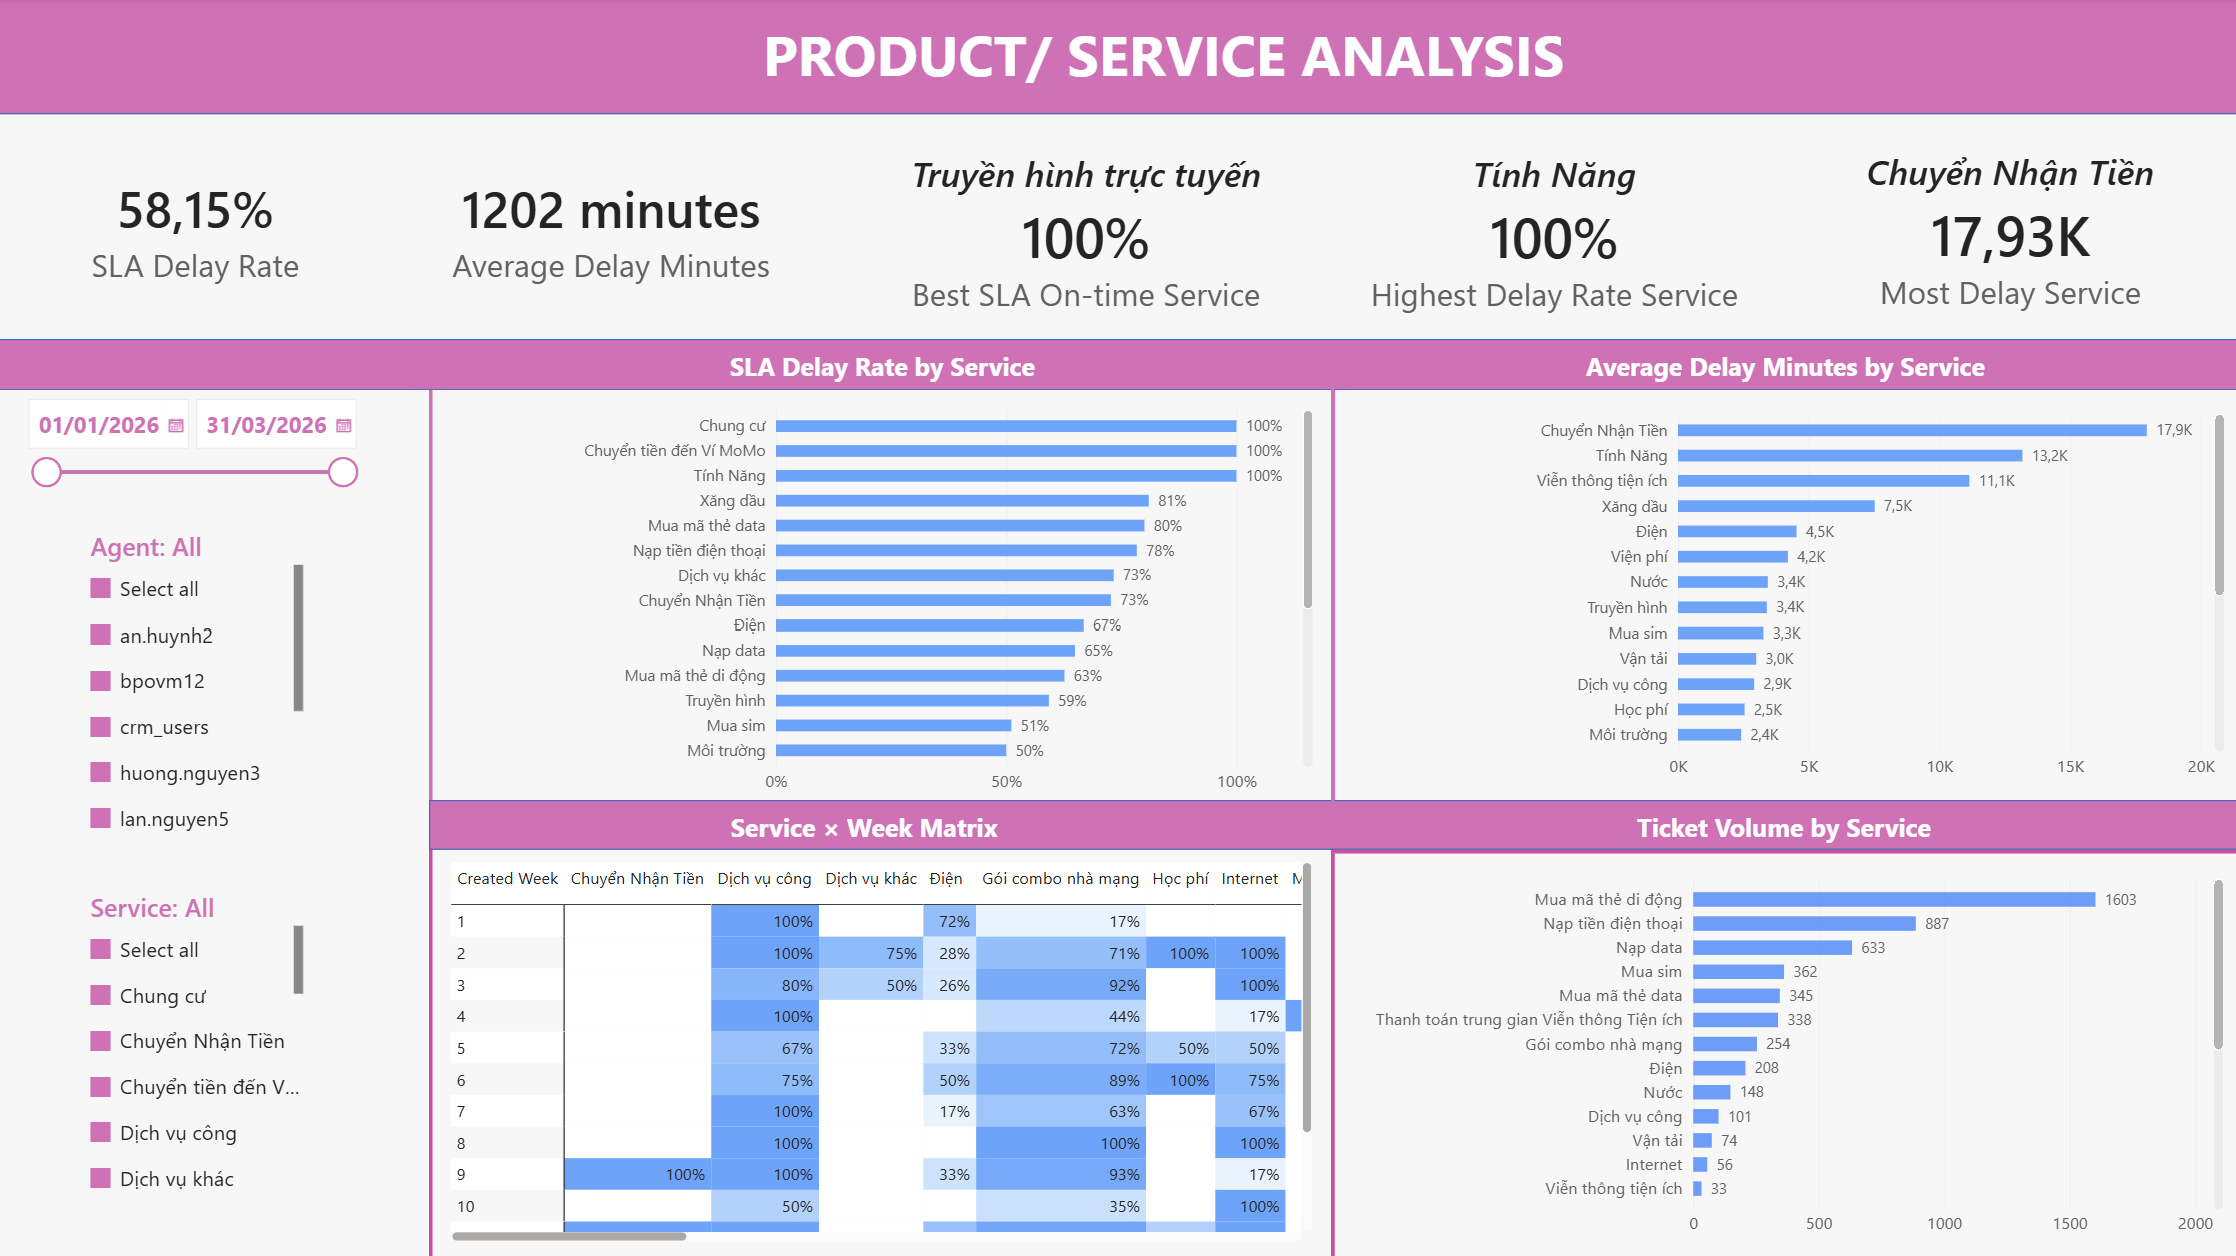

This screenshot's page, from the dashboard's own definition file:
{"tool":"powerbi","page":{"name":"Product/ Service Analysis","canvas":[1920,1080],"ordinal":2},"visuals":[{"type":"cardVisual","fields":{"Data":["Ticket_SLA.Delay Rate"]},"box":[0,102.1,342.7,192],"z":0},{"type":"clusteredBarChart","fields":{"Category":["Ticket_SLA.Level"],"Y":["Ticket_SLA.Delay Rate"]},"box":[369.4,328.1,772.9,374.3],"z":1000},{"type":"shape","box":[0,291.6,1920,43.7],"z":2000},{"type":"textbox","box":[400.8,300,712.5,39.2],"z":3000},{"type":"shape","box":[0,0,1920,100],"z":4000},{"type":"slicer","fields":{"Values":["Ticket_SLA.Created_date"]},"box":[20,337.5,292.5,92.5],"z":5000},{"type":"textbox","box":[1134.2,300,785.8,30],"z":6000},{"type":"textbox","box":[480,15,1035,82.5],"z":7000},{"type":"pivotTable","fields":{"Columns":["Ticket_SLA.Level"],"Rows":["Ticket_SLA.Created_week"],"Values":["Ticket_SLA.SLA On-time Rate"]},"box":[370,720,772.5,360],"z":8000},{"type":"shape","box":[370,685,1550,42.5],"z":9000},{"type":"clusteredBarChart","fields":{"Category":["Ticket_SLA.Level"],"Y":["Ticket_SLA.Average Delay Minutes"]},"box":[1138.9,330.2,781.1,357.9],"z":10000},{"type":"clusteredBarChart","fields":{"Category":["Ticket_SLA.Level"],"Y":["Ticket_SLA.Total Tickets"]},"box":[1139.8,726.7,780.2,352.4],"z":11000},{"type":"textbox","box":[370,692.5,742.5,35],"z":12000},{"type":"textbox","box":[1138.9,692.1,781.1,27.7],"z":13000},{"type":"cardVisual","fields":{"Data":["Ticket_SLA.Average Delay Minutes"]},"box":[335.4,102.1,379.1,192],"z":17000},{"type":"cardVisual","fields":{"Data":["Ticket_SLA.Best Service","Ticket_SLA.Best Service SLA Rate"]},"box":[714.5,70.5,432.6,243],"z":18000},{"type":"cardVisual","fields":{"Data":["Ticket_SLA.Most Delay Service","Ticket_SLA.Most Delay Minutes"]},"box":[1516.6,68.1,405.9,243],"z":19000},{"type":"cardVisual","fields":{"Data":["Ticket_SLA.Highest Delay Service","Ticket_SLA.Highest Delay Rate"]},"box":[1144.7,70.5,371.8,243],"z":20000},{"type":"slicer","fields":{"Values":["Ticket_SLA.Agent_tiep_nhan"]},"box":[72.9,454.5,189.6,272.2],"z":21000},{"type":"slicer","fields":{"Values":["Ticket_SLA.Level"]},"box":[72.9,760.7,189.6,274.6],"z":22000}]}

Visuals, with their boxes in screenshot pixels (x1, y1, x2, y2), scaled from the page's 1920x1080 canvas onto the 2236x1256 screenshot:
cardVisual - Ticket_SLA.Delay Rate: box(0, 119, 399, 342)
clusteredBarChart - Ticket_SLA.Level x Ticket_SLA.Delay Rate: box(430, 382, 1330, 817)
shape: box(0, 339, 2235, 390)
textbox: box(467, 349, 1297, 394)
shape: box(0, 0, 2235, 116)
slicer - Ticket_SLA.Created_date: box(23, 392, 364, 500)
textbox: box(1321, 349, 2235, 384)
textbox: box(559, 17, 1764, 113)
pivotTable - Ticket_SLA.Level x Ticket_SLA.Created_week: box(431, 837, 1331, 1255)
shape: box(431, 797, 2235, 846)
clusteredBarChart - Ticket_SLA.Level x Ticket_SLA.Average Delay Minutes: box(1326, 384, 2235, 800)
clusteredBarChart - Ticket_SLA.Level x Ticket_SLA.Total Tickets: box(1327, 845, 2235, 1255)
textbox: box(431, 805, 1296, 846)
textbox: box(1326, 805, 2235, 837)
cardVisual - Ticket_SLA.Average Delay Minutes: box(391, 119, 832, 342)
cardVisual - Ticket_SLA.Best Service x Ticket_SLA.Best Service SLA Rate: box(832, 82, 1336, 365)
cardVisual - Ticket_SLA.Most Delay Service x Ticket_SLA.Most Delay Minutes: box(1766, 79, 2235, 362)
cardVisual - Ticket_SLA.Highest Delay Service x Ticket_SLA.Highest Delay Rate: box(1333, 82, 1766, 365)
slicer - Ticket_SLA.Agent_tiep_nhan: box(85, 529, 306, 845)
slicer - Ticket_SLA.Level: box(85, 885, 306, 1204)
